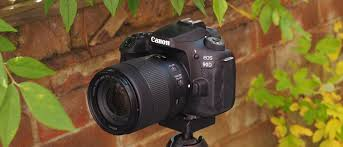camera: (87, 28, 235, 134)
